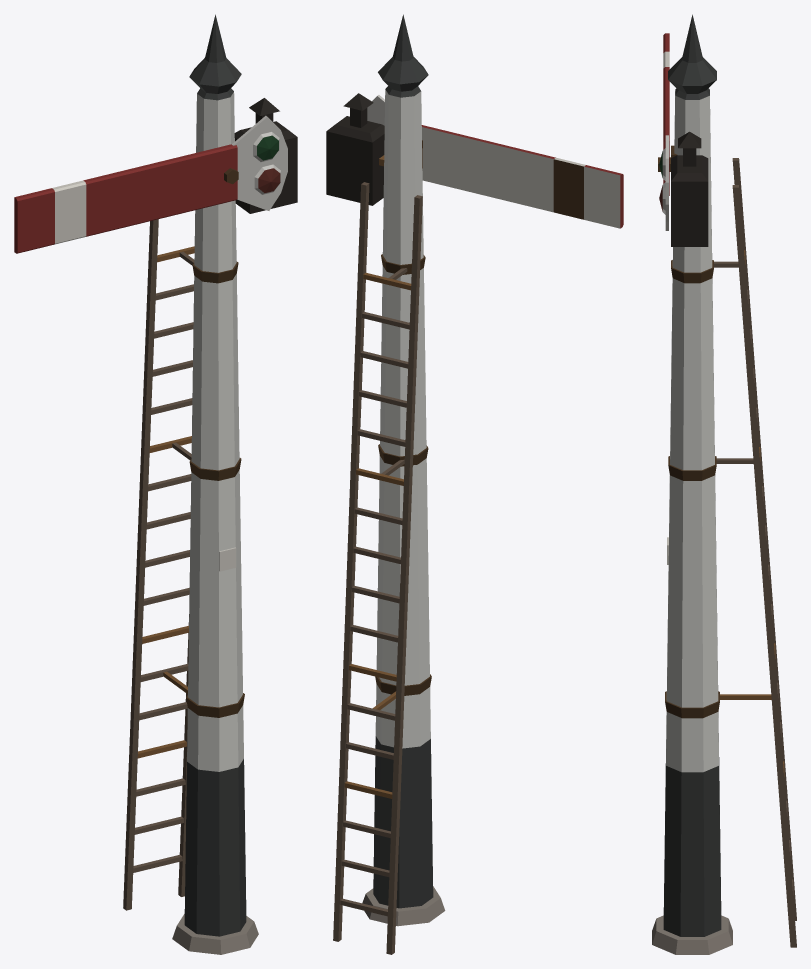
Rendered from semaphore-signal-cb8968.glb.
The picture shows the model from 3 angles, left to right: view 1: azimuth 30°, elevation 25°; view 2: azimuth 150°, elevation 25°; view 3: azimuth 270°, elevation 25°; orthographic projection. The views are drawn at different scales.
Parts seen in each view (by area): view 1: signal, arm-mesh; view 2: signal, arm-mesh; view 3: signal, arm-mesh.
Part boxes in pixels (box(x1,y1,x2,y2)): signal: box(123, 14, 297, 954); arm-mesh: box(14, 115, 287, 253); signal: box(326, 14, 445, 954); arm-mesh: box(367, 95, 623, 228); signal: box(652, 14, 796, 954); arm-mesh: box(658, 33, 670, 230).
Size of the model in its own units: 2.27 by 7.05 by 1.
